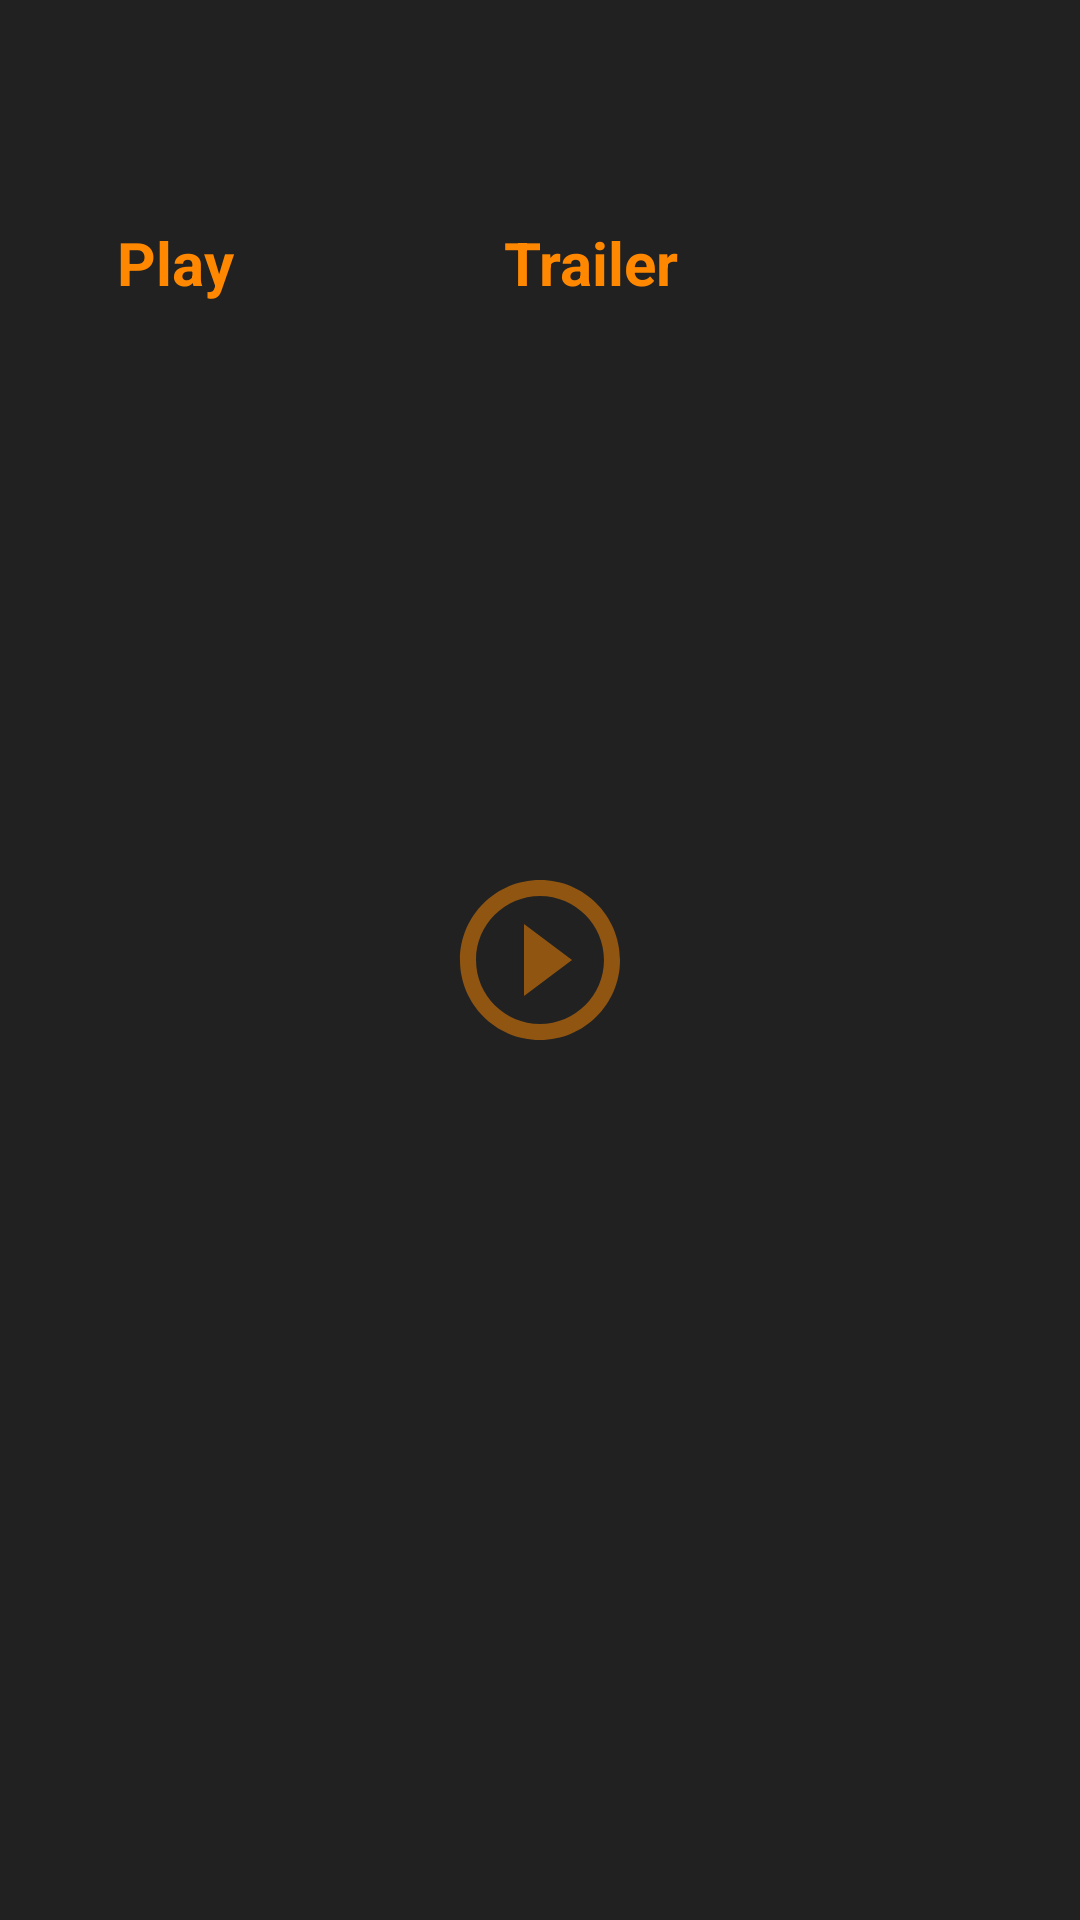

Where icons sit on this 1080 × 1920 app screen, as {"x1": x1, "y1": y1, "x2": x2, "y2": y2}:
play circle: {"x1": 460, "y1": 880, "x2": 620, "y2": 1040}
